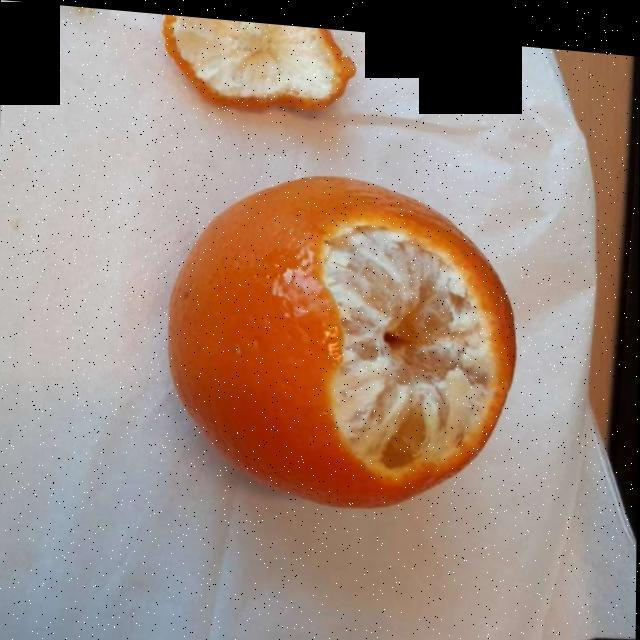mandarine: (172, 184, 514, 502)
